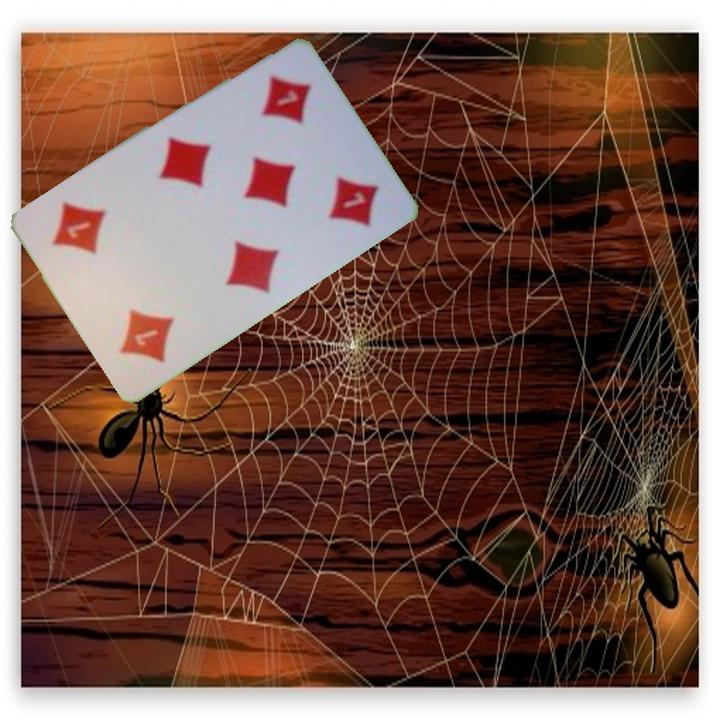d_7.png: (223, 48, 347, 177), (78, 257, 202, 385)
